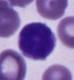D: (18, 22, 56, 60)
